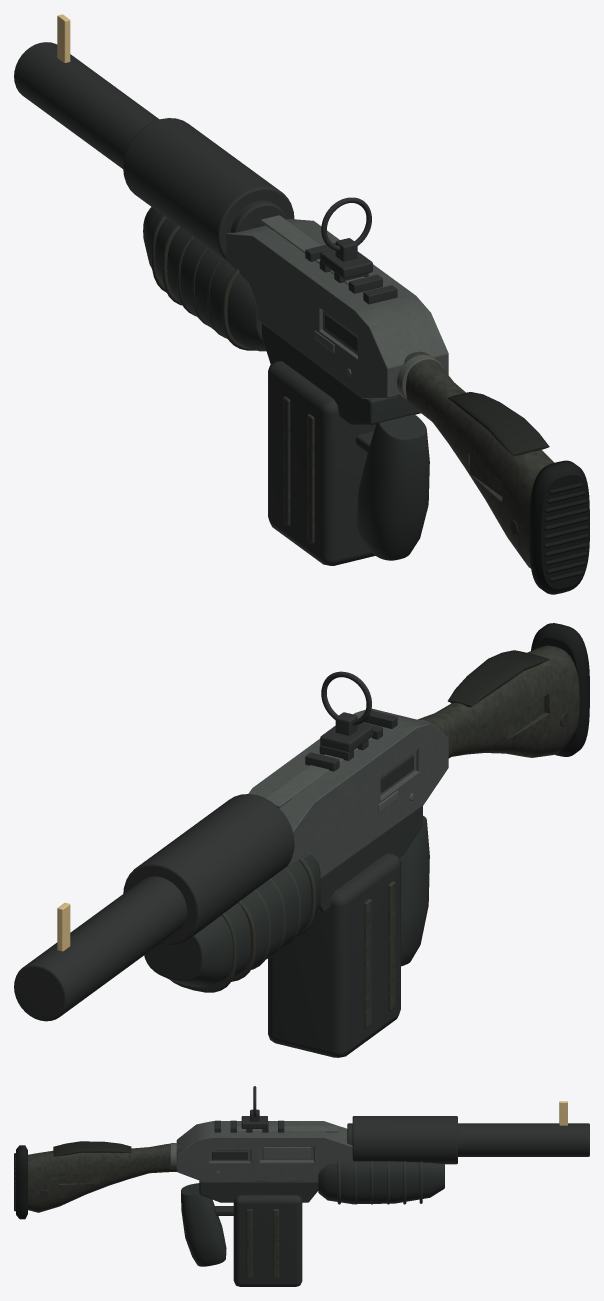
File: shotgun.glb
3 renders of one model, top to bottom at view 1: azimuth 30°, elevation 25°; view 2: azimuth 150°, elevation 25°; view 3: azimuth 270°, elevation 25°, orthographic. The views are drawn at different scales.
Parts seen in each view (by area): view 1: WeaponBody, Magazine, Butt stock, Butt plate; view 2: WeaponBody, Magazine, Butt stock, Butt plate; view 3: WeaponBody, Magazine, Butt stock, Butt plate.
Part boxes in pixels (x1,y1,x2,y2): WeaponBody: (14,14,549,560); Magazine: (268,361,376,565); Butt stock: (397,351,554,568); Butt plate: (529,460,589,594); WeaponBody: (14,650,568,1021); Magazine: (268,853,400,1057); Butt stock: (418,645,579,758); Butt plate: (531,623,589,756); WeaponBody: (40,1086,589,1266); Magazine: (233,1195,302,1286); Butt stock: (28,1143,180,1212); Butt plate: (14,1145,27,1219).
Size of the model in its own units: 0.1114 by 0.4 by 1.09.
9 materials, 4 textured.
